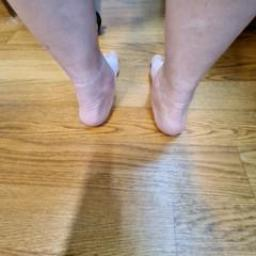Back View -Both Feet-: (28, 29, 245, 147)
